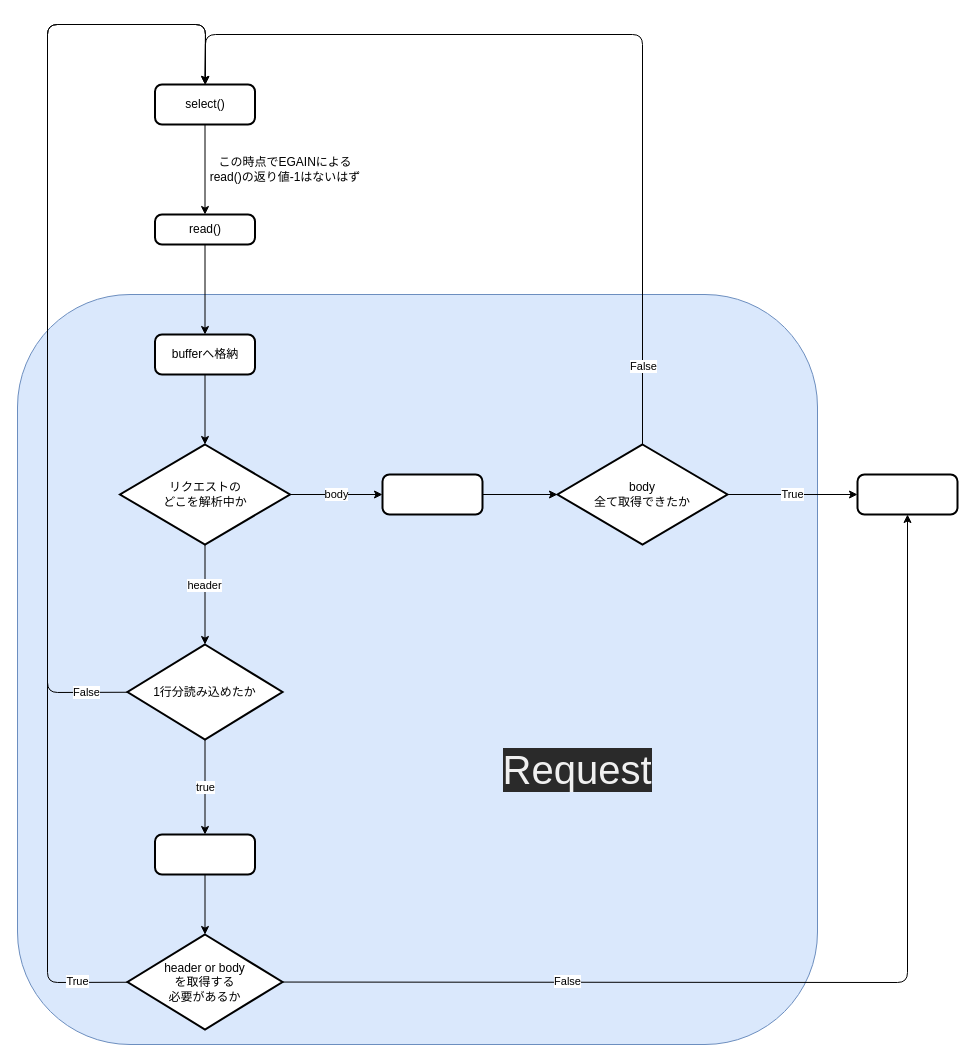
Image size: 976x1062. Some labels were removed from this diagram. The shapes that lost their labels are listed below. From the top down, each one's box as (x1, y1, x2, y2) in pixels, then its label:
(381, 473, 483, 515): body取得
(856, 473, 958, 515): response
(154, 833, 256, 875): parse
